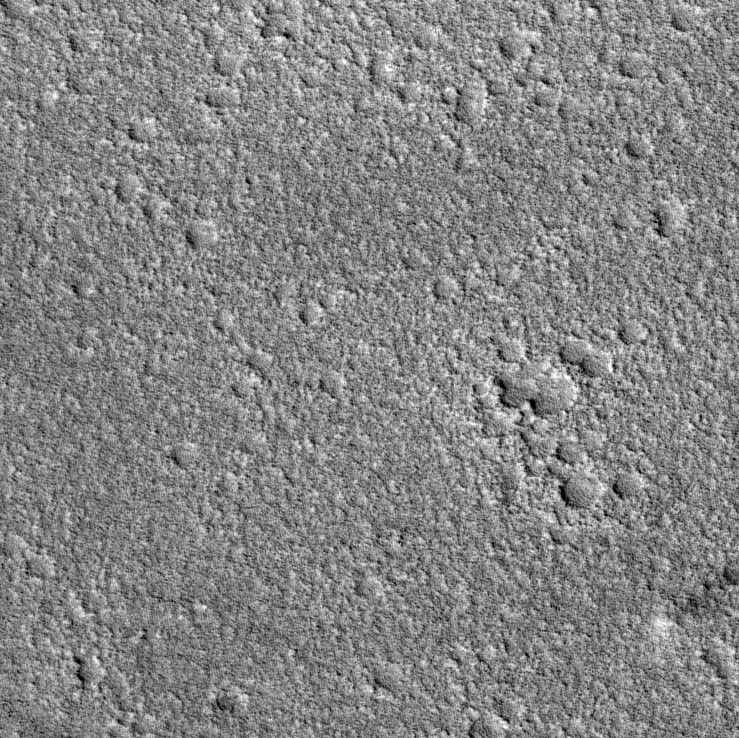dust_devil: (651, 563, 739, 640)
